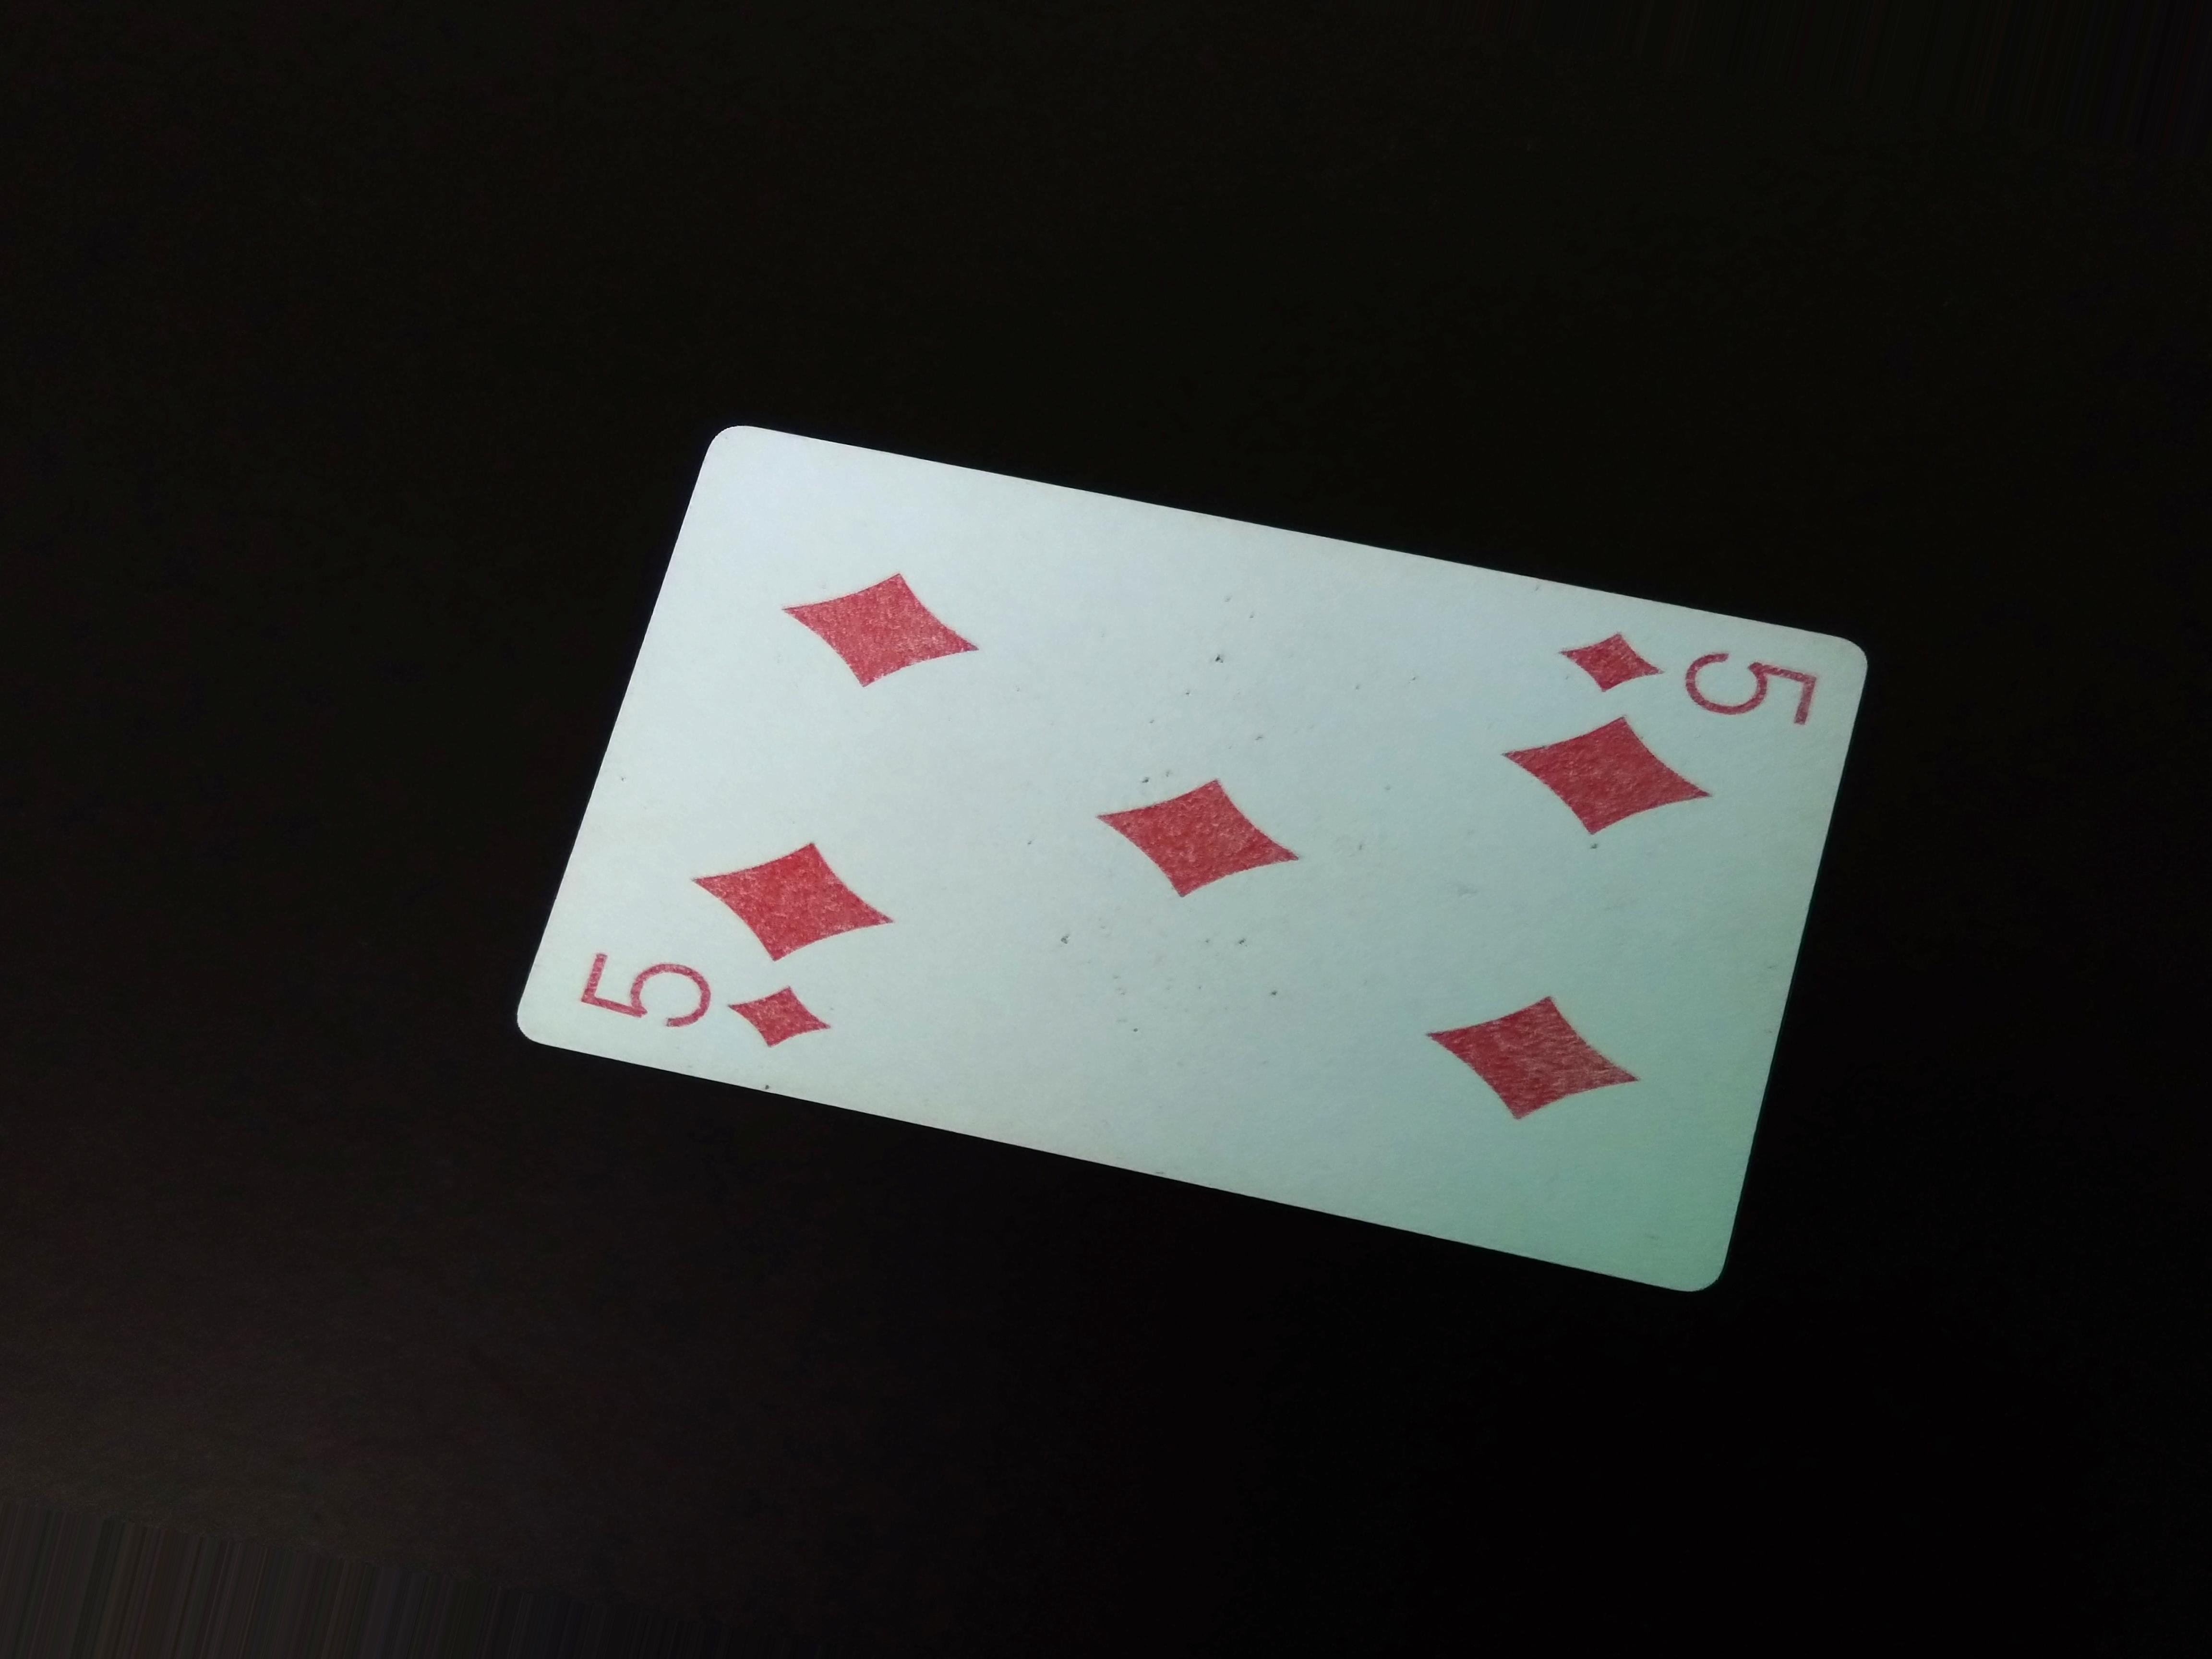5D: (557, 934, 836, 1063)
